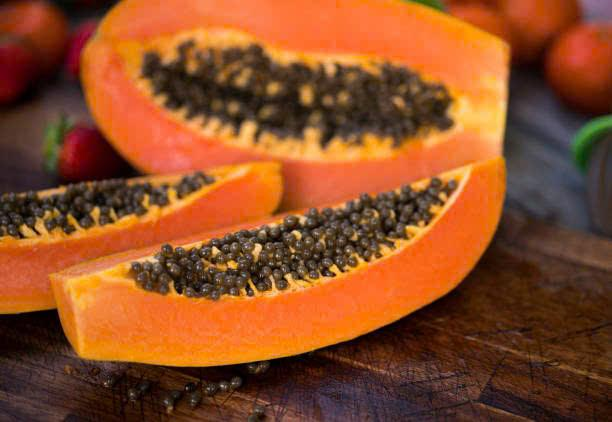papaya: (40, 159, 509, 357), (73, 0, 512, 170), (0, 162, 282, 236)
